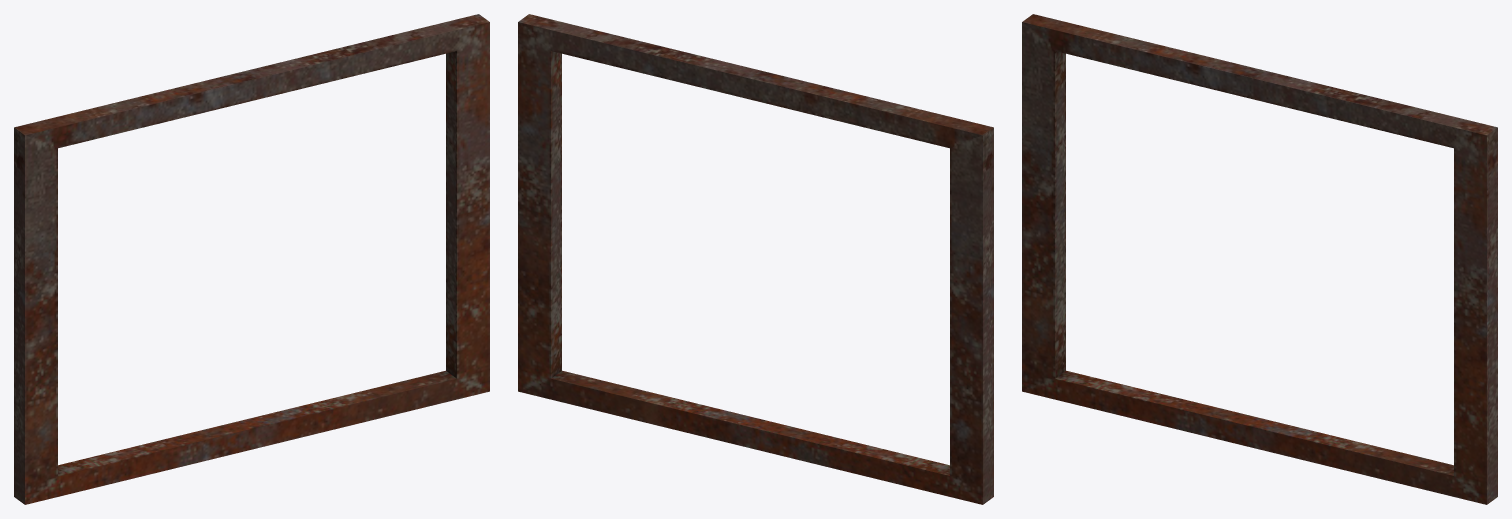
Rendered from MetalFrame.FBX.
3 renders of one model, left to right at view 1: azimuth 30°, elevation 25°; view 2: azimuth 150°, elevation 25°; view 3: azimuth 330°, elevation 25°, orthographic.
Parts seen in each view (by area): view 1: MetalFrame; view 2: MetalFrame; view 3: MetalFrame.
Boxes of the visible parts, box(x1,y1,x2,y2) form: MetalFrame: box(14, 14, 489, 504); MetalFrame: box(518, 14, 993, 504); MetalFrame: box(1022, 14, 1497, 504).
Bounding box in the file's own units: 232 × 176 × 9.48.
